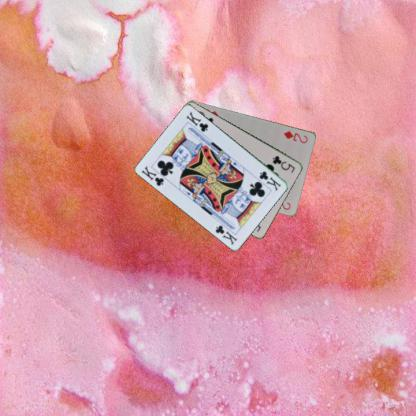2d: (281, 128, 309, 144)
5c: (270, 153, 296, 174)
Kc: (257, 168, 283, 193), (139, 163, 165, 187)
